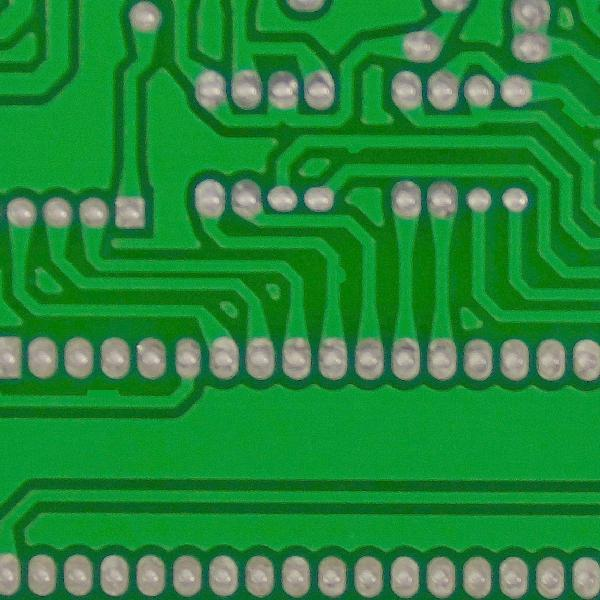spur: (557, 99, 595, 132), (80, 385, 127, 409), (336, 132, 376, 156), (324, 261, 353, 289)
